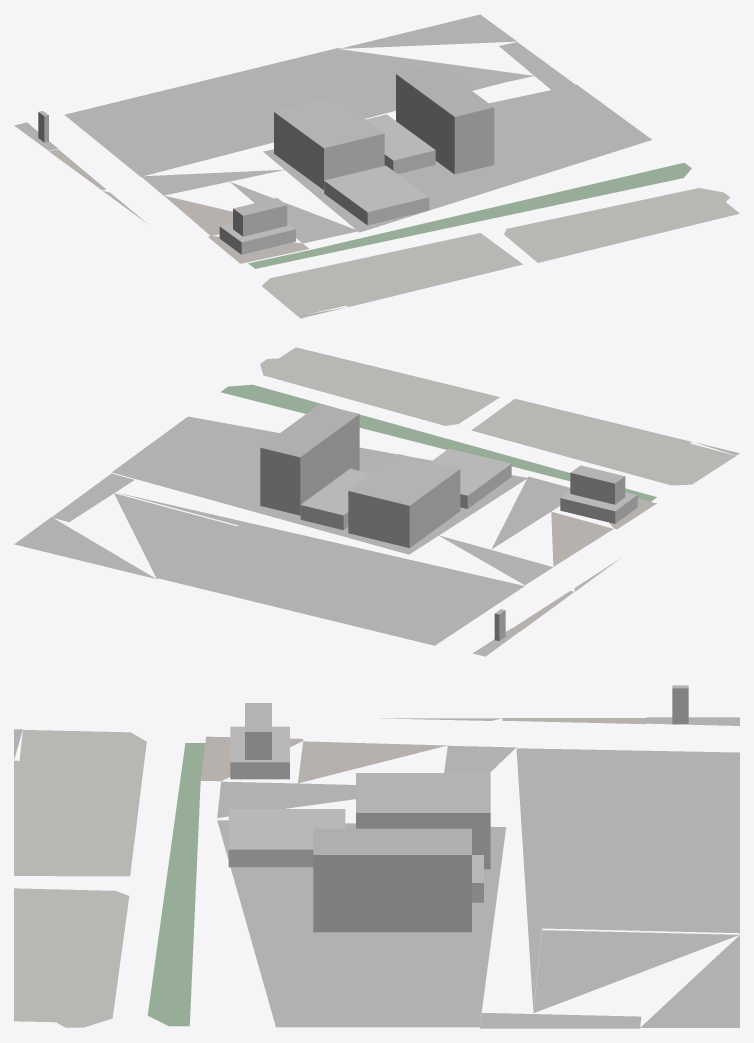
Rendered from 139_108_mid.glb.
3 views of the same model, one above another, from view 1: azimuth 30°, elevation 25°; view 2: azimuth 150°, elevation 25°; view 3: azimuth 270°, elevation 25° (orthographic). The views are drawn at different scales.
Size of the model in its own units: 500 by 59.93 by 500.
